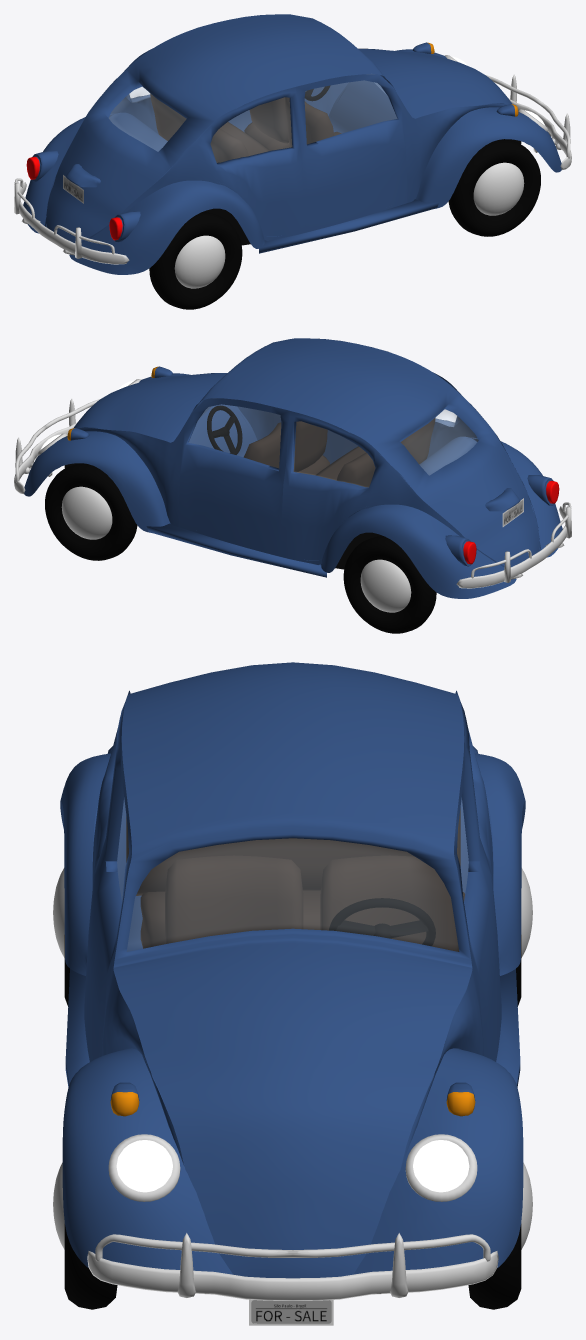
The model's file is beetle.gltf.
3 views of the same model, one above another, from view 1: azimuth 30°, elevation 25°; view 2: azimuth 150°, elevation 25°; view 3: azimuth 270°, elevation 25° (orthographic). The views are drawn at different scales.
Parts seen in each view (by area): view 1: Circle; view 2: Circle; view 3: Circle.
Boxes of the visible parts, x1,y1,x2,y2 form: Circle: (14, 14, 571, 309); Circle: (14, 338, 571, 633); Circle: (53, 662, 532, 1325).
Bounding box in the file's own units: 9.65 × 3.69 × 3.99.
Materials: 9 (1 with a texture image).
